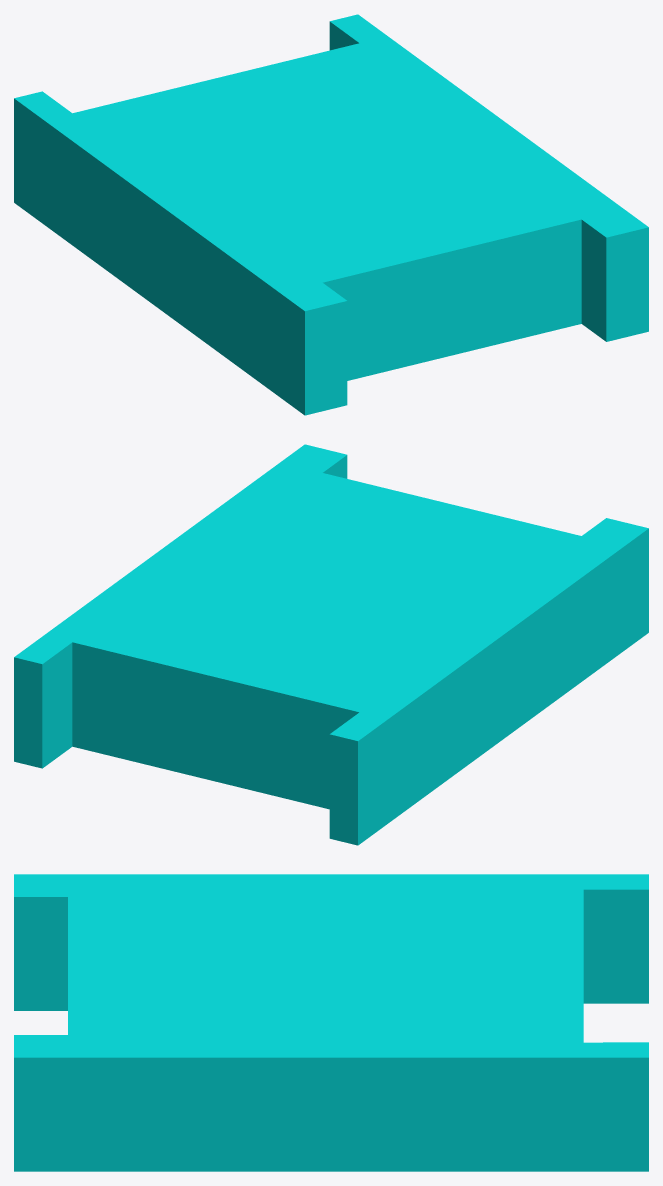
File: ServerrackCPU_Modulur.fbx
The picture shows the model from 3 angles, top to bottom: view 1: azimuth 30°, elevation 25°; view 2: azimuth 150°, elevation 25°; view 3: azimuth 270°, elevation 25°; orthographic projection. The views are drawn at different scales.
Parts seen in each view (by area): view 1: ServerrackCPU_Modulur; view 2: ServerrackCPU_Modulur; view 3: ServerrackCPU_Modulur.
Part boxes in pixels (box(x1,y1,x2,y2)): ServerrackCPU_Modulur: box(14, 14, 648, 415); ServerrackCPU_Modulur: box(14, 444, 648, 845); ServerrackCPU_Modulur: box(14, 874, 648, 1171).
Size of the model in its own units: 73.98 by 21.44 by 108.
